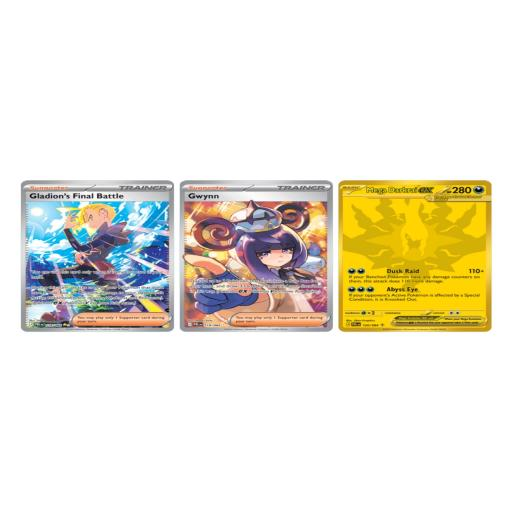card: (179, 180, 333, 333), (339, 180, 492, 332), (21, 180, 174, 332)
